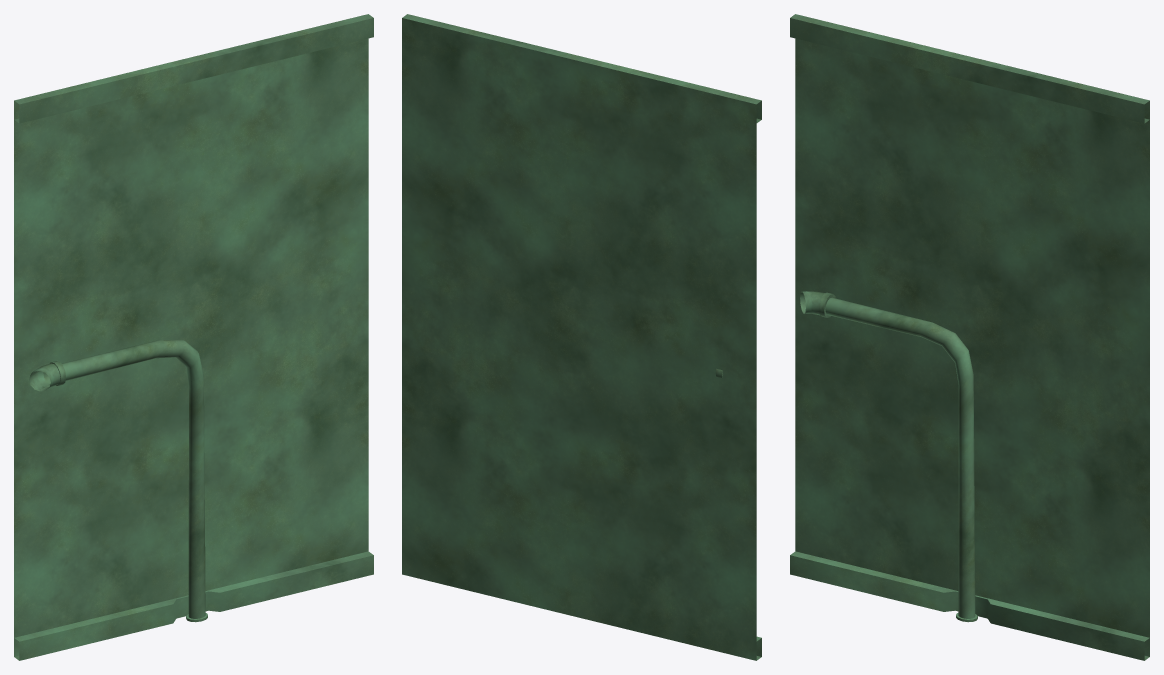
The model's file is Wall_LowerDeck_Down_Corner1.FBX.
The picture shows the model from 3 angles, left to right: view 1: azimuth 30°, elevation 25°; view 2: azimuth 150°, elevation 25°; view 3: azimuth 330°, elevation 25°; orthographic projection.
Visible parts, largest first — view 1: Object022; view 2: Object022; view 3: Object022.
Part boxes in pixels (left/top/right/bottom): Object022: left=14, top=14, right=373, bottom=660; Object022: left=402, top=14, right=761, bottom=660; Object022: left=790, top=14, right=1149, bottom=660.
Size of the model in its own units: 200 by 300 by 13.46.
